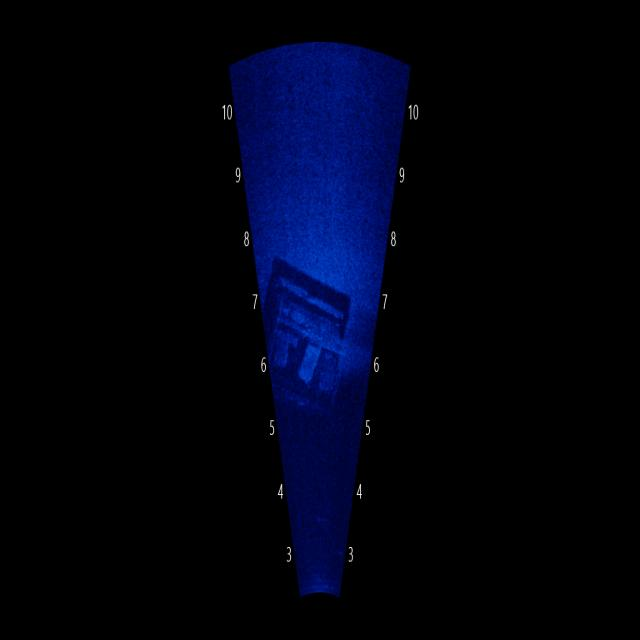square: (259, 246, 355, 446)
